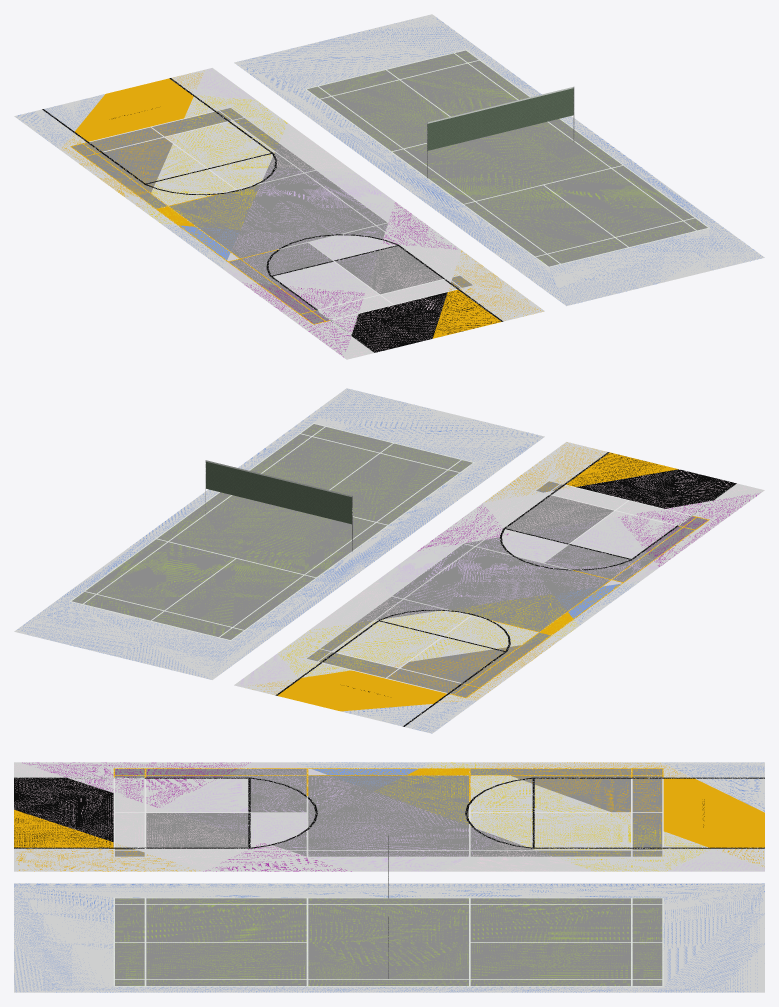
3 views of the same model, one above another, from view 1: azimuth 30°, elevation 25°; view 2: azimuth 150°, elevation 25°; view 3: azimuth 270°, elevation 25° (orthographic). The views are drawn at different scales.
Visible parts, largest first — view 1: group_0.014, group_0.015, group_1.061, group_0.013, group_0.017, group_1.079, group_0.003, group_0.009, group_1.099, group_0.020, group_0.010, group_1.076 (+40 smaller); view 2: group_0.014, group_0.015, group_1.061, group_0.009, group_0.020, group_1.079, group_0.017, group_0.003, group_1.099, group_0.013, group_0.010, group_1.076 (+40 smaller); view 3: group_0.014, group_0.015, group_1.061, group_0.013, group_0.020, group_0.009, group_0.017, group_1.079, group_1.099, group_0.010, group_1.040, group_1.076 (+60 smaller).
Boxes of the visible parts, x1,y1,x2,y2 form: group_0.014: (234, 14, 764, 305); group_0.015: (405, 122, 609, 200); group_1.061: (231, 173, 374, 258); group_0.013: (544, 169, 681, 236); group_0.017: (476, 185, 613, 253); group_1.079: (75, 78, 193, 141); group_0.003: (427, 88, 573, 150); group_0.009: (333, 80, 449, 148); group_1.099: (352, 292, 447, 352); group_0.020: (401, 63, 517, 116); group_0.010: (305, 50, 709, 267); group_1.076: (173, 122, 270, 168); group_0.014: (14, 388, 544, 679); group_0.015: (169, 495, 374, 574); group_1.061: (405, 547, 609, 609); group_0.009: (165, 558, 302, 626); group_0.020: (97, 542, 234, 610); group_1.079: (277, 670, 446, 711); group_0.017: (330, 453, 446, 521); group_0.003: (206, 461, 351, 524); group_1.099: (576, 469, 734, 508); group_0.013: (262, 437, 378, 489); group_0.010: (70, 423, 474, 640); group_1.076: (336, 621, 441, 664); group_0.014: (14, 883, 764, 992); group_0.015: (308, 905, 468, 979); group_1.061: (308, 775, 468, 849); group_0.013: (146, 942, 306, 979); group_0.020: (470, 942, 630, 979); group_0.009: (470, 905, 630, 941); group_0.017: (146, 905, 306, 941); group_1.079: (663, 778, 764, 847); group_1.099: (14, 778, 113, 842); group_0.010: (113, 897, 663, 986); group_1.040: (14, 848, 201, 871); group_1.076: (534, 813, 630, 847).
Size of the model in its own units: 12.19 by 1.55 by 16.8.
13 materials, 1 textured.
